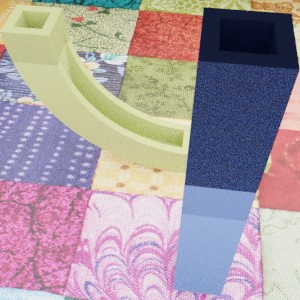lego: (0, 4, 271, 173), (173, 7, 299, 296)
